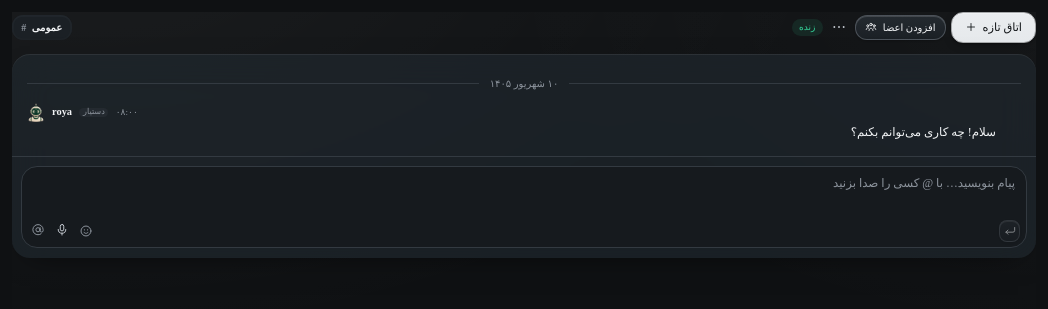
answering an agent › writes the agent's handle into the draft, once
The image size is (1048, 309).
Right-click the text "سلام! چه کاری می‌توانم بکنم؟": (923, 132) [851,124,996,138]
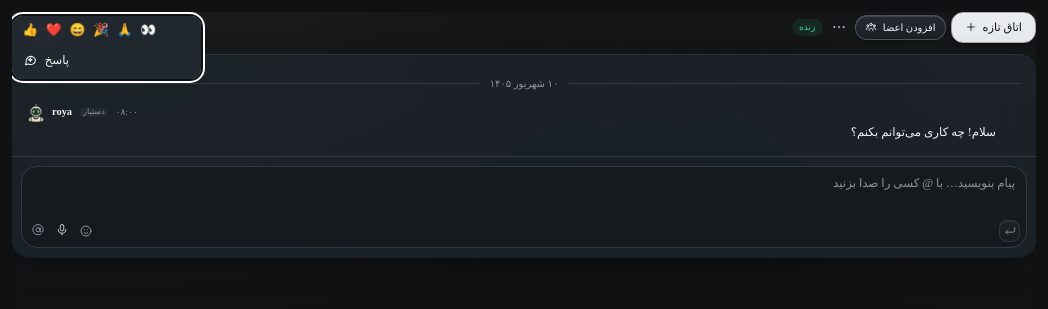
Click the menu item "پاسخ": (46, 60) [23,52,69,68]
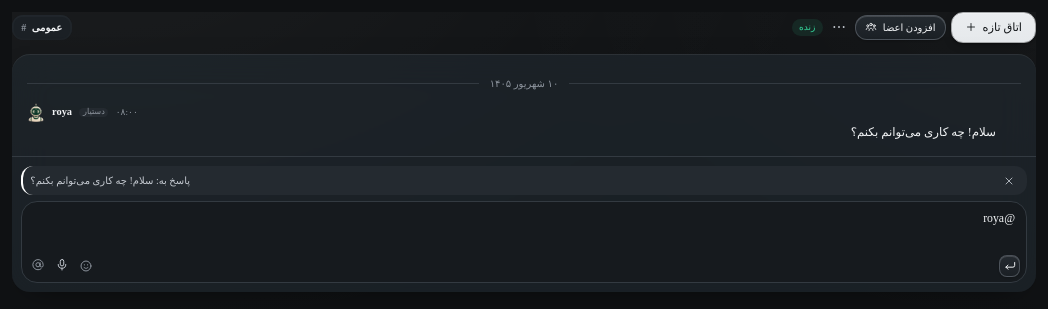
Expected: the text box with placeholder "پیام بنویسید… با @ کسی را صدا بزنید" holds "@roya "
In the text box with placeholder "پیام بنویسید… با @ کسی را صدا بزنید": (524, 225) [22,202,1026,248], type "چرا؟"
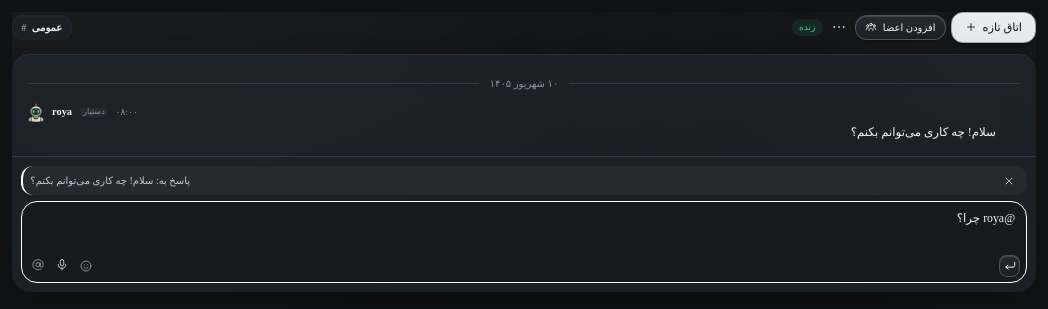
Expected: the text box with placeholder "پیام بنویسید… با @ کسی را صدا بزنید" holds "@roya چرا؟", [22,202,1026,248]
